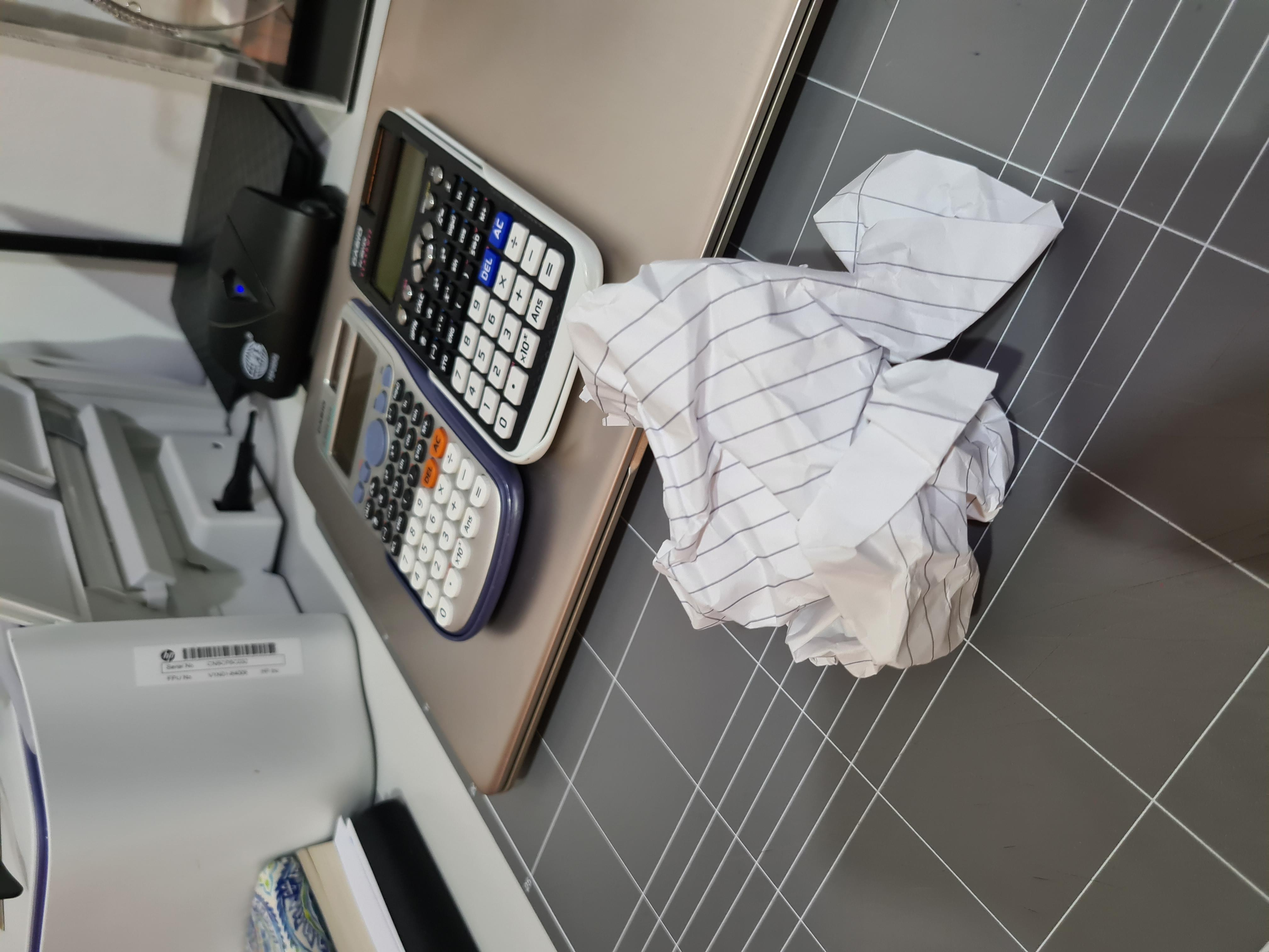paper: (391, 435, 1034, 782)
